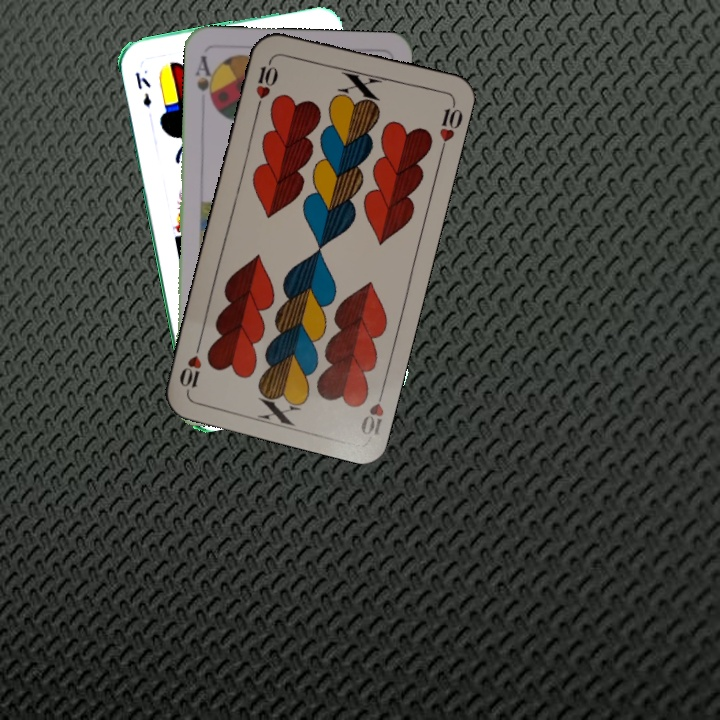EK: (131, 68, 154, 110)
H10: (356, 381, 388, 438), (251, 54, 281, 112)
SA: (191, 51, 218, 110)
